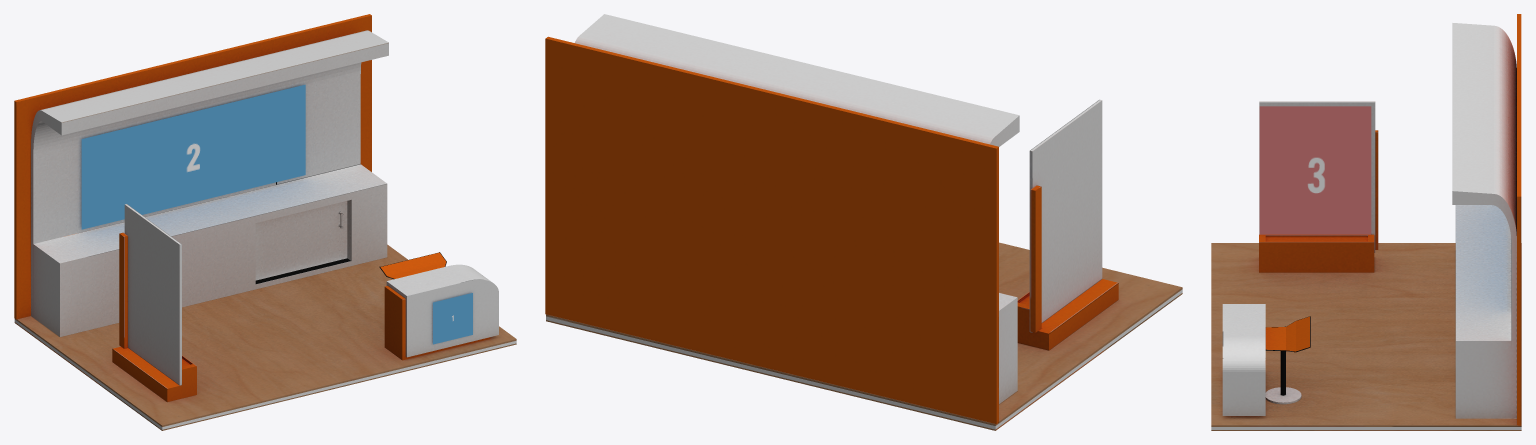
File: stall B2.fbx
3 renders of one model, left to right at view 1: azimuth 30°, elevation 25°; view 2: azimuth 150°, elevation 25°; view 3: azimuth 270°, elevation 25°, orthographic. The views are drawn at different scales.
Visible parts, largest first — view 1: white layer, 1, light layer, 2; view 2: white layer, light layer; view 3: white layer, 3, light layer.
Boxes of the visible parts, x1=… form: white layer: x1=14, y1=14, x2=516, y2=430; 1: x1=81, y1=84, x2=305, y2=229; light layer: x1=14, y1=319, x2=516, y2=429; 2: x1=433, y1=293, x2=472, y2=344; white layer: x1=545, y1=14, x2=1182, y2=430; light layer: x1=546, y1=289, x2=1182, y2=429; white layer: x1=1211, y1=14, x2=1521, y2=430; 3: x1=1259, y1=106, x2=1371, y2=234; light layer: x1=1211, y1=427, x2=1521, y2=429.
Size of the model in its own units: 635 by 380 by 456.
5 materials, 4 textured.
